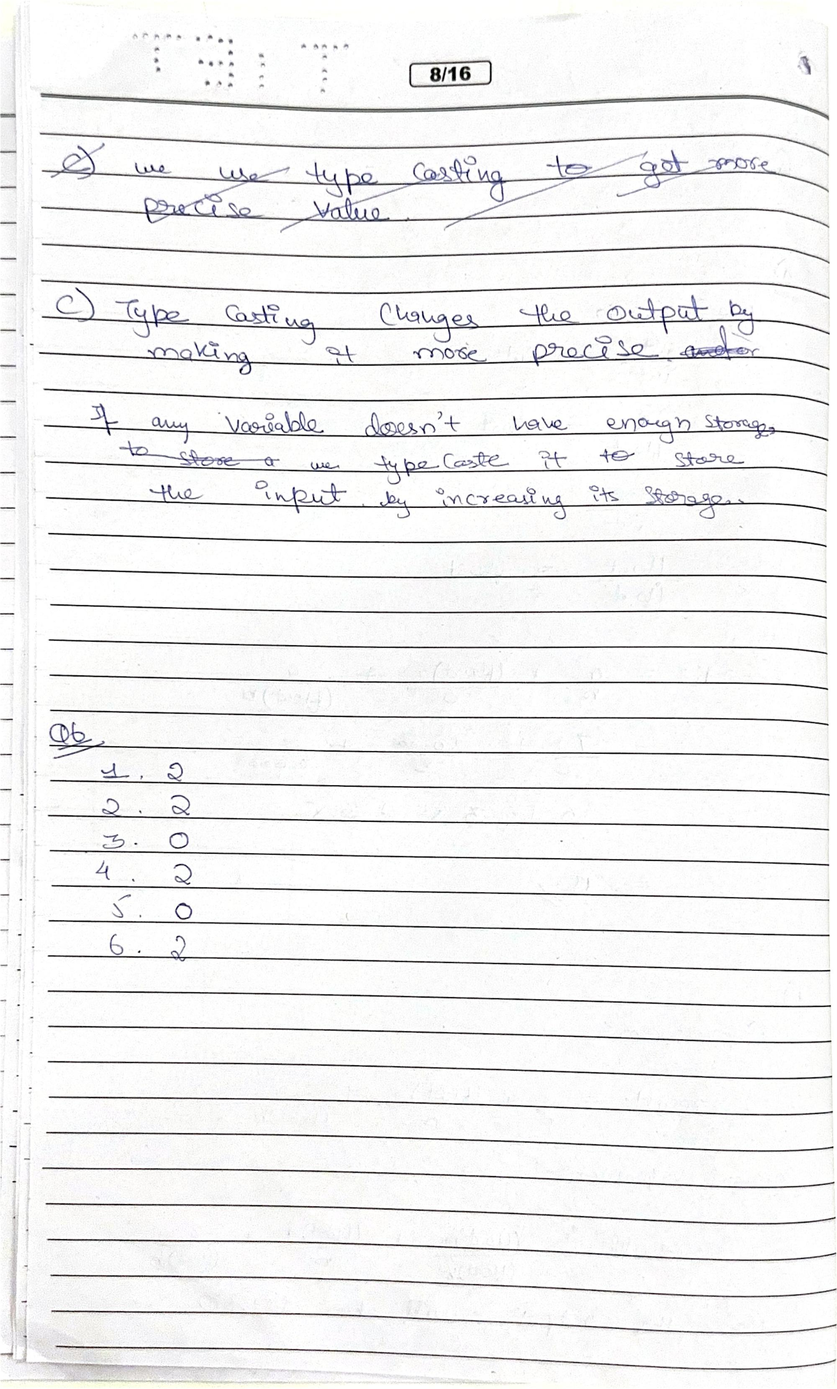cuttings: (39, 135, 789, 236), (114, 432, 288, 473), (674, 321, 768, 367)
